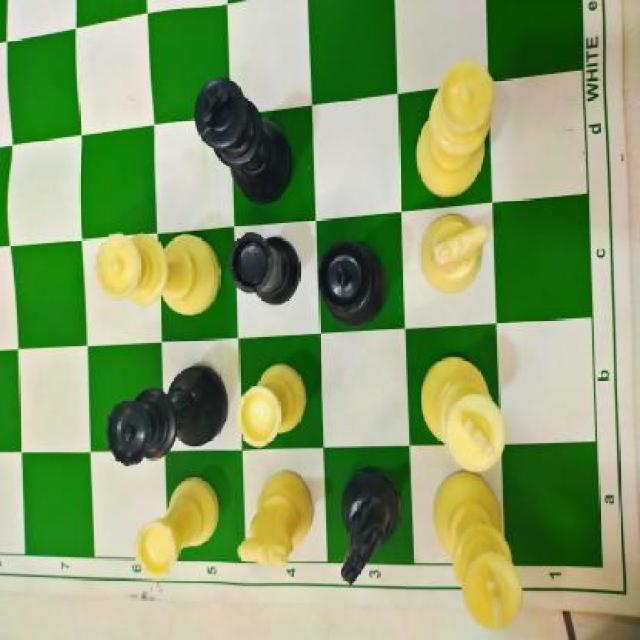black-king: (192, 76, 296, 212)
black-knight: (338, 462, 404, 587)
black-queen: (104, 361, 228, 468), (316, 236, 387, 330)
black-rook: (226, 228, 302, 309)
white-king: (431, 468, 526, 634), (418, 350, 508, 475)
white-knight: (235, 470, 314, 572), (417, 212, 491, 296)
white-queen: (93, 228, 222, 324), (413, 56, 496, 202)
white-rook: (132, 474, 222, 578), (236, 361, 310, 452)
